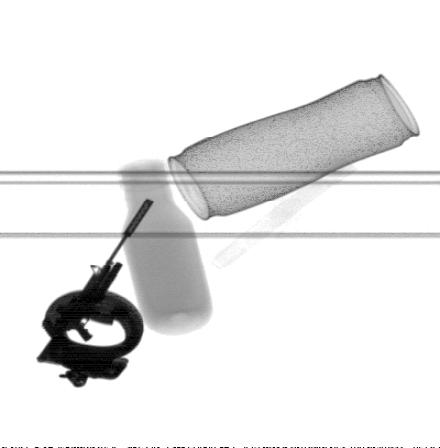Gun: (40, 197, 157, 360)
HandCuffs: (36, 289, 146, 391)
